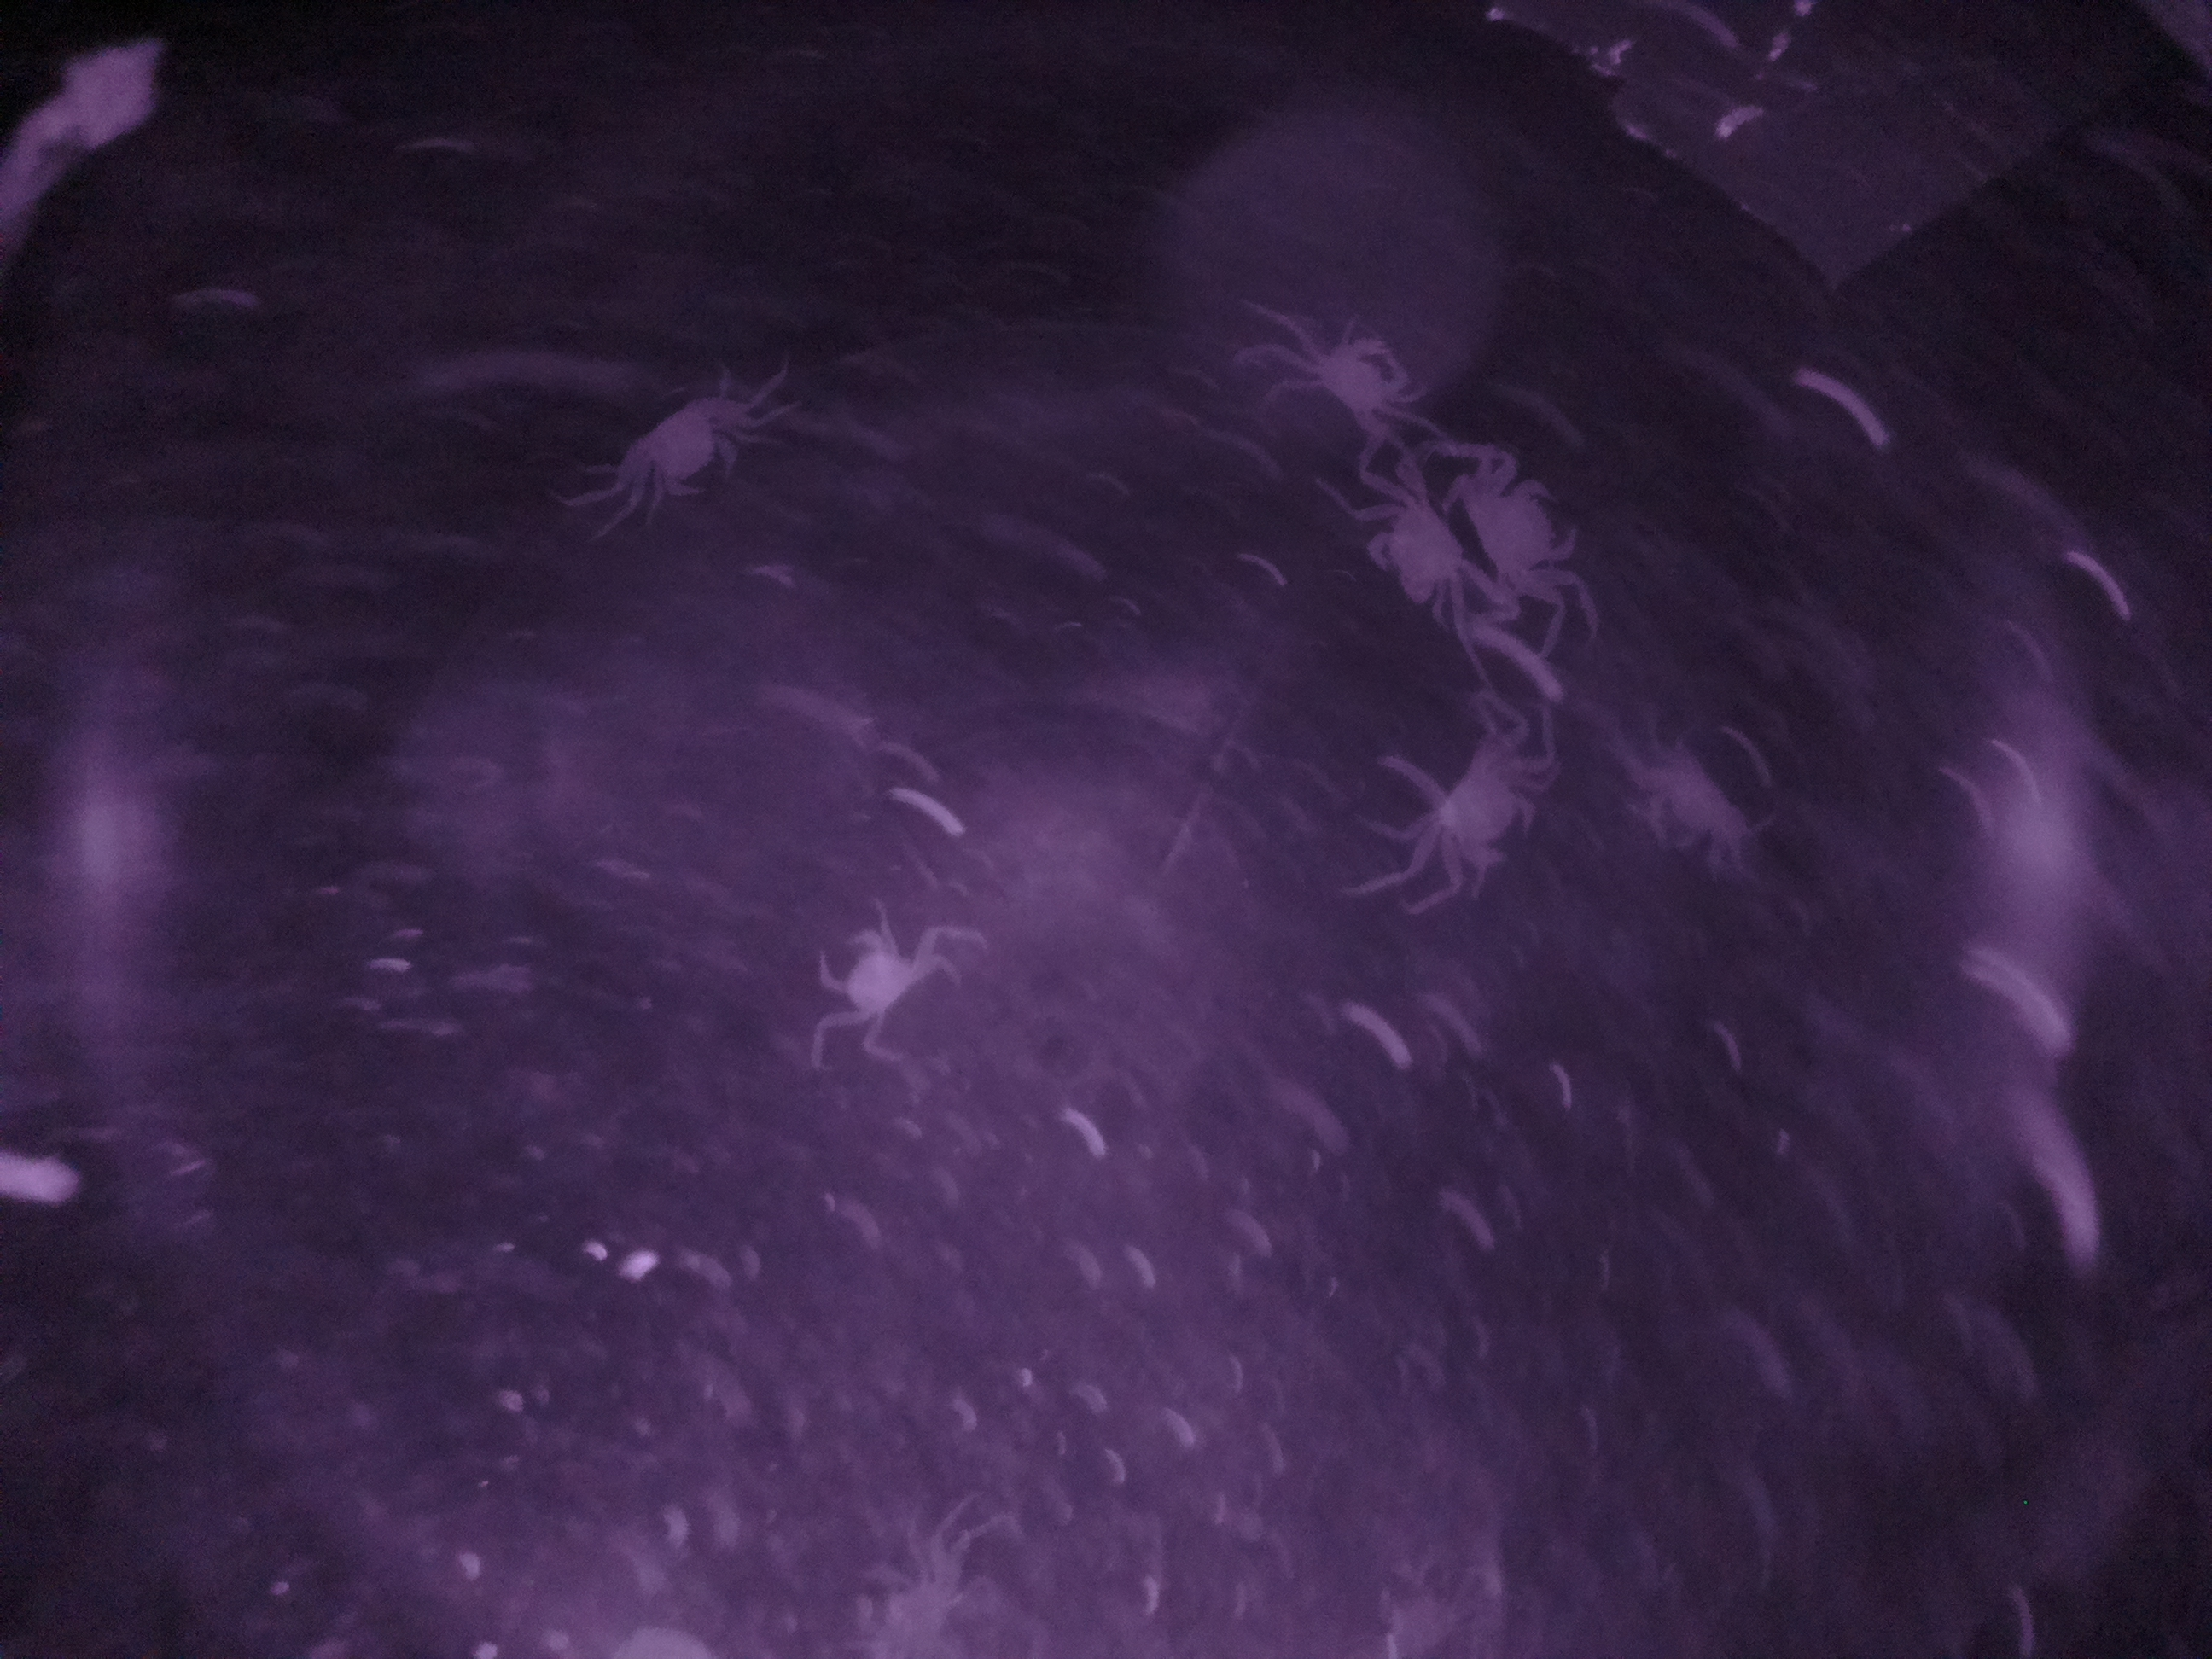Crab: (1395, 728, 1557, 906), (1467, 448, 1604, 606), (618, 380, 740, 519)
